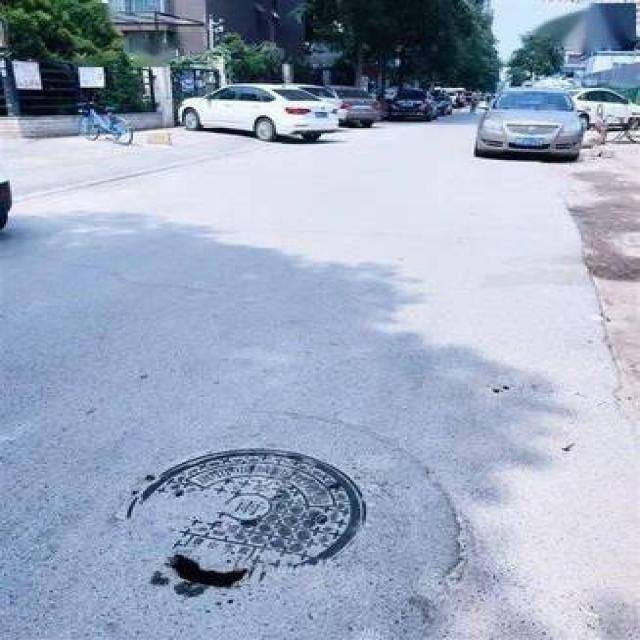manhole: (110, 442, 368, 602)
